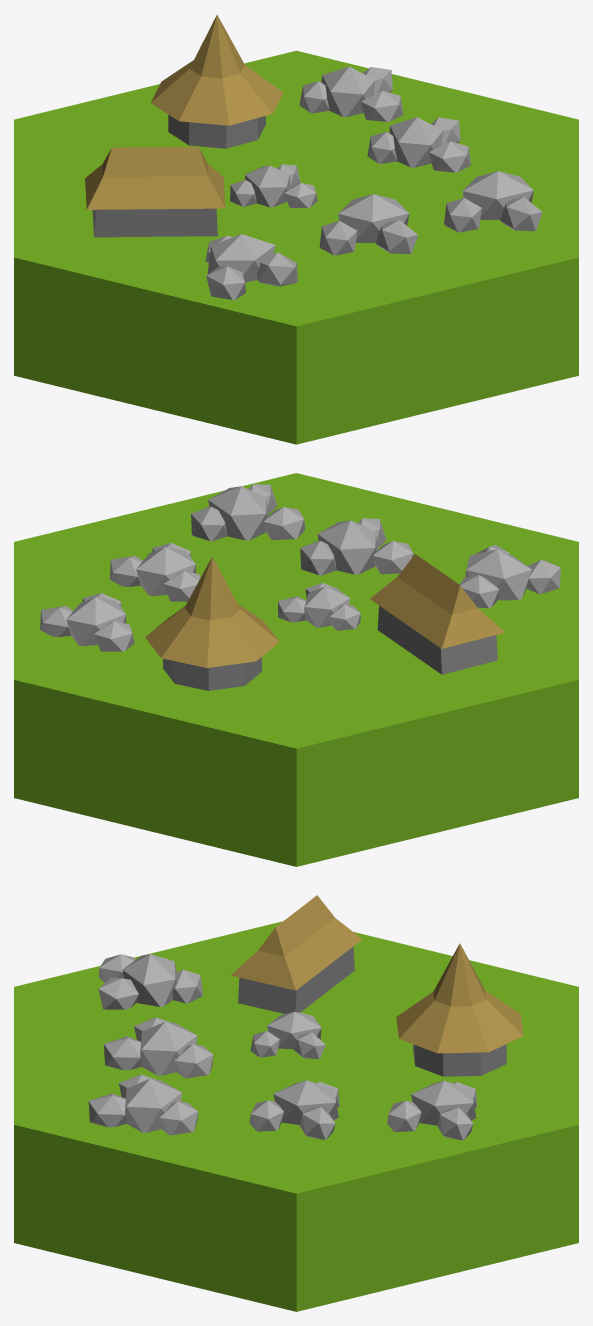
The model's file is Casas_Rocoso_2.fbx.
3 renders of one model, top to bottom at view 1: azimuth 30°, elevation 25°; view 2: azimuth 150°, elevation 25°; view 3: azimuth 270°, elevation 25°, orthographic.
Parts seen in each view (by area): view 1: Casas_Rocoso_2; view 2: Casas_Rocoso_2; view 3: Casas_Rocoso_2.
Part boxes in pixels (left/top/right/bottom): Casas_Rocoso_2: left=14, top=14, right=578, bottom=444; Casas_Rocoso_2: left=14, top=473, right=578, bottom=866; Casas_Rocoso_2: left=14, top=895, right=578, bottom=1311.
Size of the model in its own units: 200 by 78.5 by 173.
